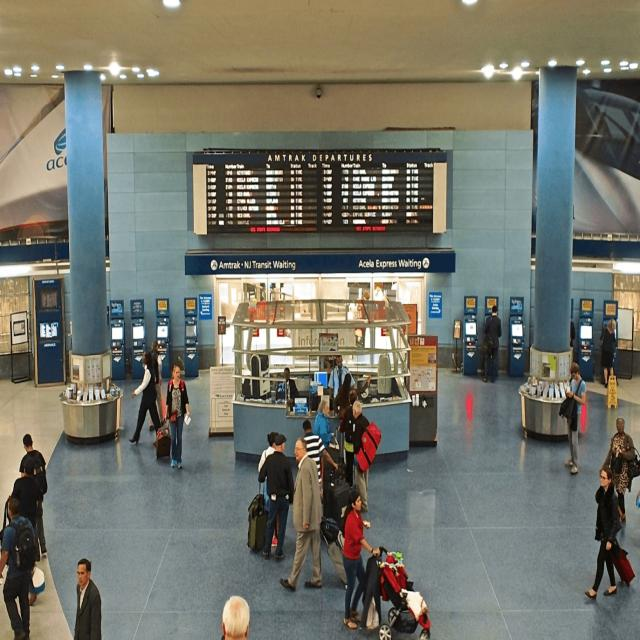body: (278, 436, 323, 592), (340, 488, 381, 628), (0, 497, 37, 639), (584, 463, 622, 600), (258, 433, 296, 564), (9, 459, 40, 606), (599, 415, 636, 523), (18, 432, 48, 564), (127, 349, 166, 446), (352, 400, 382, 513), (301, 419, 339, 501), (312, 397, 338, 502), (166, 362, 191, 470), (564, 361, 586, 475), (258, 431, 279, 547), (74, 558, 103, 640), (337, 390, 359, 490), (17, 288, 60, 336), (481, 304, 502, 383), (148, 340, 165, 432), (220, 594, 251, 640), (598, 317, 618, 388), (327, 354, 356, 401), (356, 282, 386, 320), (332, 372, 355, 419), (281, 367, 300, 412), (260, 285, 276, 304), (570, 317, 576, 364), (634, 488, 640, 508), (454, 323, 460, 338), (219, 322, 224, 332)
